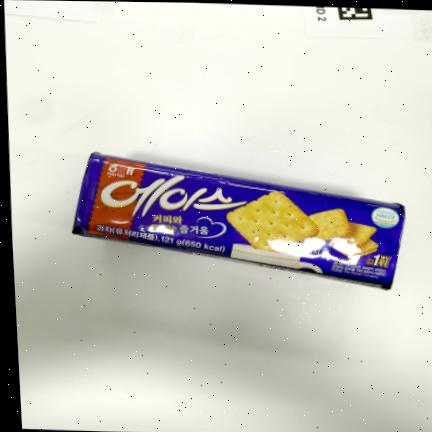cracker_ace: (71, 152, 405, 289)
